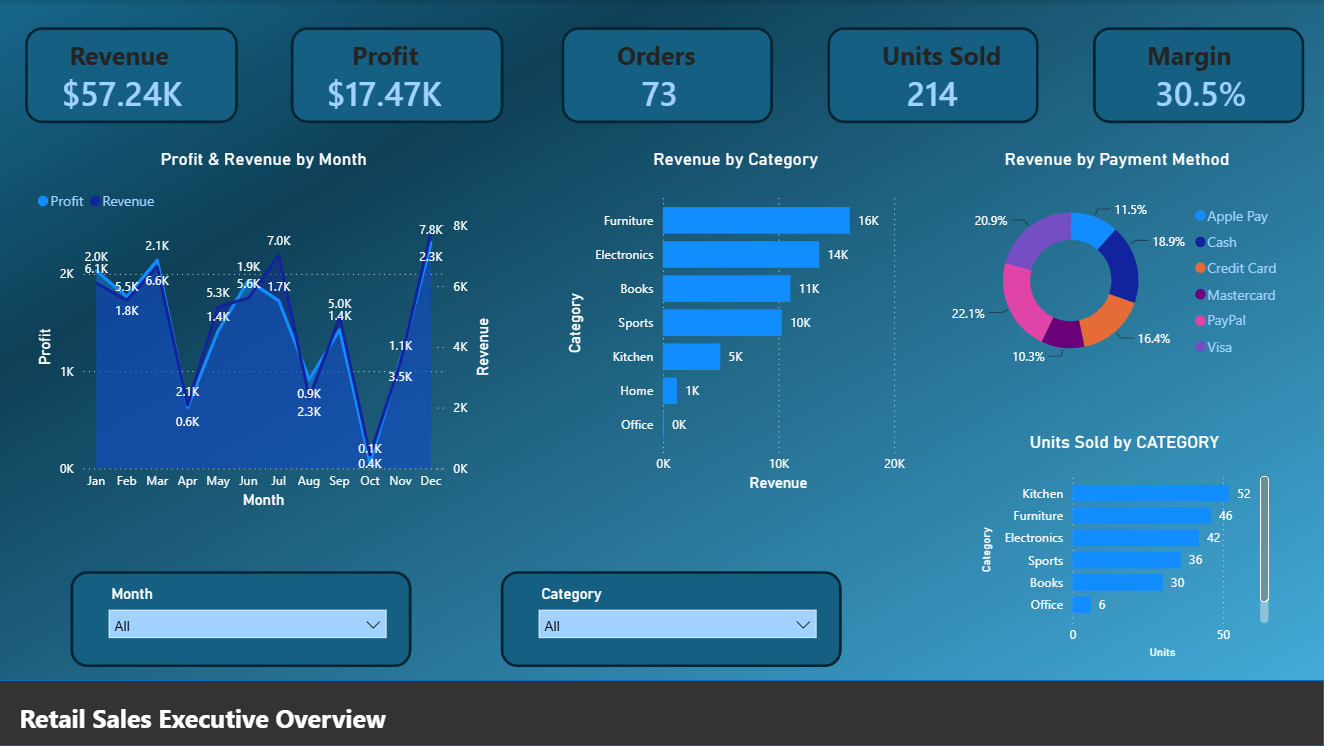

This screenshot's page, from the dashboard's own definition file:
{"tool":"powerbi","page":{"name":"Executive","canvas":[1280,720],"ordinal":0},"visuals":[{"type":"cardVisual","fields":{"Data":["FACT_SALES.Total Revenue"]},"box":[32,48,192,80],"z":0},{"type":"cardVisual","fields":{"Data":["FACT_SALES.Profit Margin %"]},"box":[1088,48,192,80],"z":1000},{"type":"cardVisual","fields":{"Data":["FACT_SALES.Units Sold"]},"box":[848,48,192,80],"z":2000},{"type":"cardVisual","fields":{"Data":["FACT_SALES.Total Orders"]},"box":[592,48,192,80],"z":3000},{"type":"cardVisual","fields":{"Data":["FACT_SALES.Total Profit"]},"box":[288,48,192,80],"z":4000},{"type":"textbox","box":[64,32,112,48],"z":5000},{"type":"textbox","box":[1104,32,112,48],"z":6000},{"type":"textbox","box":[848,32,144,48],"z":7000},{"type":"textbox","box":[592,32,112,48],"z":8000},{"type":"textbox","box":[336,32,112,48],"z":9000},{"type":"areaChart","title":"Profit & Revenue by Month","fields":{"Y2":["FACT_SALES.Total Revenue"],"Category":["DIM_DATE.MONTH_NAME"],"Y":["FACT_SALES.Total Profit"]},"box":[32,144,448,352],"z":10000},{"type":"barChart","title":"Revenue by Category","fields":{"Y":["FACT_SALES.Total Revenue"],"Category":["DIM_PRODUCT.CATEGORY"]},"box":[544,144,336,336],"z":11000},{"type":"donutChart","title":"Revenue by Payment Method","fields":{"Y":["FACT_SALES.Total Revenue"],"Series":["FACT_SALES.PAYMENT_METHOD"]},"box":[912,144,336,224],"z":12000},{"type":"barChart","fields":{"Category":["DIM_PRODUCT.CATEGORY"],"Y":["FACT_SALES.Units Sold"]},"box":[944,416,288,224],"z":13000},{"type":"slicer","fields":{"Values":["DIM_DATE.MONTH_NAME"]},"box":[96,560,288,80],"z":14000},{"type":"slicer","fields":{"Values":["DIM_PRODUCT.CATEGORY"]},"box":[512,560,288,80],"z":15000},{"type":"shape","box":[0,656,1280,64],"z":16000},{"type":"textbox","box":[16,672,384,48],"z":17000}]}

Visuals, with their boxes in screenshot pixels (x1, y1, x2, y2), scaled from the page's 1280x720 canvas onto the 1324x746 screenshot:
cardVisual - FACT_SALES.Total Revenue: <bbox>33, 50, 232, 133</bbox>
cardVisual - FACT_SALES.Profit Margin %: <bbox>1125, 50, 1323, 133</bbox>
cardVisual - FACT_SALES.Units Sold: <bbox>877, 50, 1076, 133</bbox>
cardVisual - FACT_SALES.Total Orders: <bbox>612, 50, 811, 133</bbox>
cardVisual - FACT_SALES.Total Profit: <bbox>298, 50, 496, 133</bbox>
textbox: <bbox>66, 33, 182, 83</bbox>
textbox: <bbox>1142, 33, 1258, 83</bbox>
textbox: <bbox>877, 33, 1026, 83</bbox>
textbox: <bbox>612, 33, 728, 83</bbox>
textbox: <bbox>348, 33, 463, 83</bbox>
"Profit & Revenue by Month" areaChart: <bbox>33, 149, 496, 514</bbox>
"Revenue by Category" barChart: <bbox>563, 149, 910, 497</bbox>
"Revenue by Payment Method" donutChart: <bbox>943, 149, 1291, 381</bbox>
barChart - DIM_PRODUCT.CATEGORY x FACT_SALES.Units Sold: <bbox>976, 431, 1274, 663</bbox>
slicer - DIM_DATE.MONTH_NAME: <bbox>99, 580, 397, 663</bbox>
slicer - DIM_PRODUCT.CATEGORY: <bbox>530, 580, 828, 663</bbox>
shape: <bbox>0, 680, 1323, 745</bbox>
textbox: <bbox>17, 696, 414, 745</bbox>
